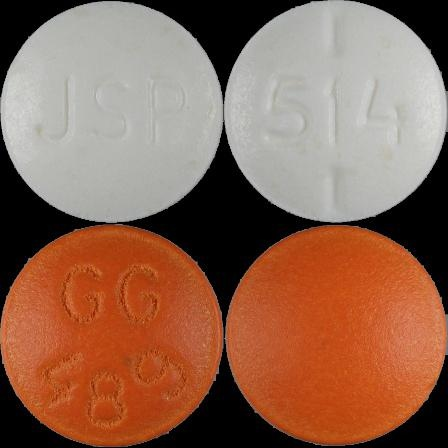64725-1342: (0, 0, 224, 224)
